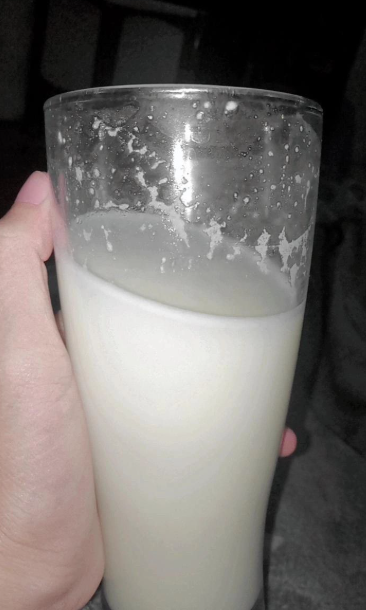produk_susu: (57, 96, 292, 610)
